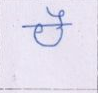ai_matra: (46, 6, 66, 23)
